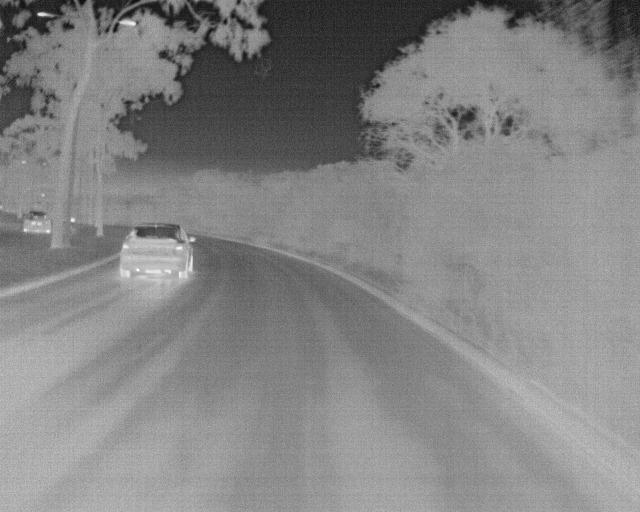car: (118, 219, 196, 279), (17, 209, 52, 232)
